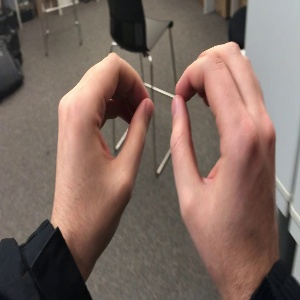hand: (170, 41, 276, 276), (53, 52, 154, 248)
